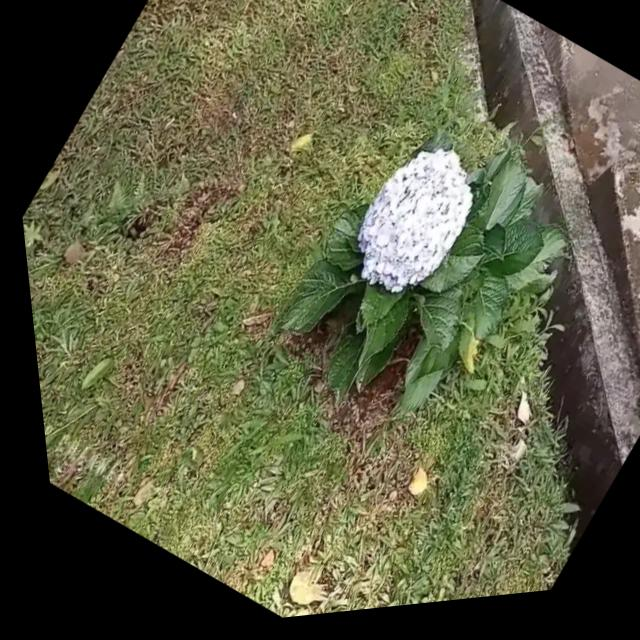Flower: (317, 128, 503, 327)
